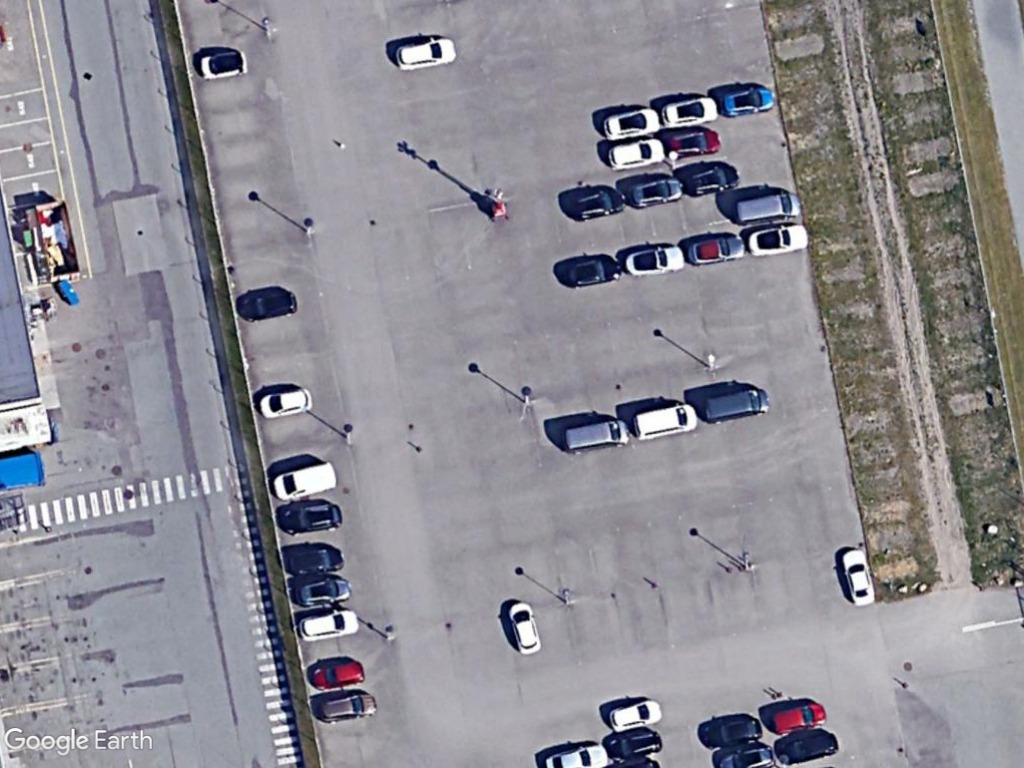car: (601, 132, 668, 175), (621, 238, 689, 280), (236, 286, 305, 326), (391, 35, 458, 76), (598, 102, 665, 143), (277, 498, 347, 537), (505, 598, 548, 661), (313, 689, 382, 728), (837, 543, 876, 611), (294, 604, 362, 642), (560, 251, 623, 292), (696, 714, 767, 750), (679, 160, 741, 201), (749, 218, 811, 259), (293, 573, 353, 613), (683, 231, 745, 269), (662, 125, 725, 162), (659, 92, 720, 129), (607, 696, 664, 735), (719, 83, 778, 120), (625, 171, 684, 208), (311, 656, 368, 694), (257, 384, 317, 420), (569, 186, 626, 222), (769, 701, 829, 735)
van: (271, 455, 342, 506), (630, 398, 702, 443), (559, 413, 629, 456), (729, 189, 802, 229), (699, 384, 770, 425)
